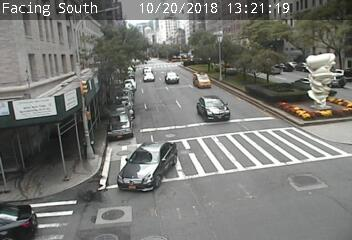car: (118, 142, 177, 191), (197, 96, 229, 122), (193, 73, 211, 89), (165, 72, 178, 84), (143, 72, 154, 82), (143, 67, 151, 73)
